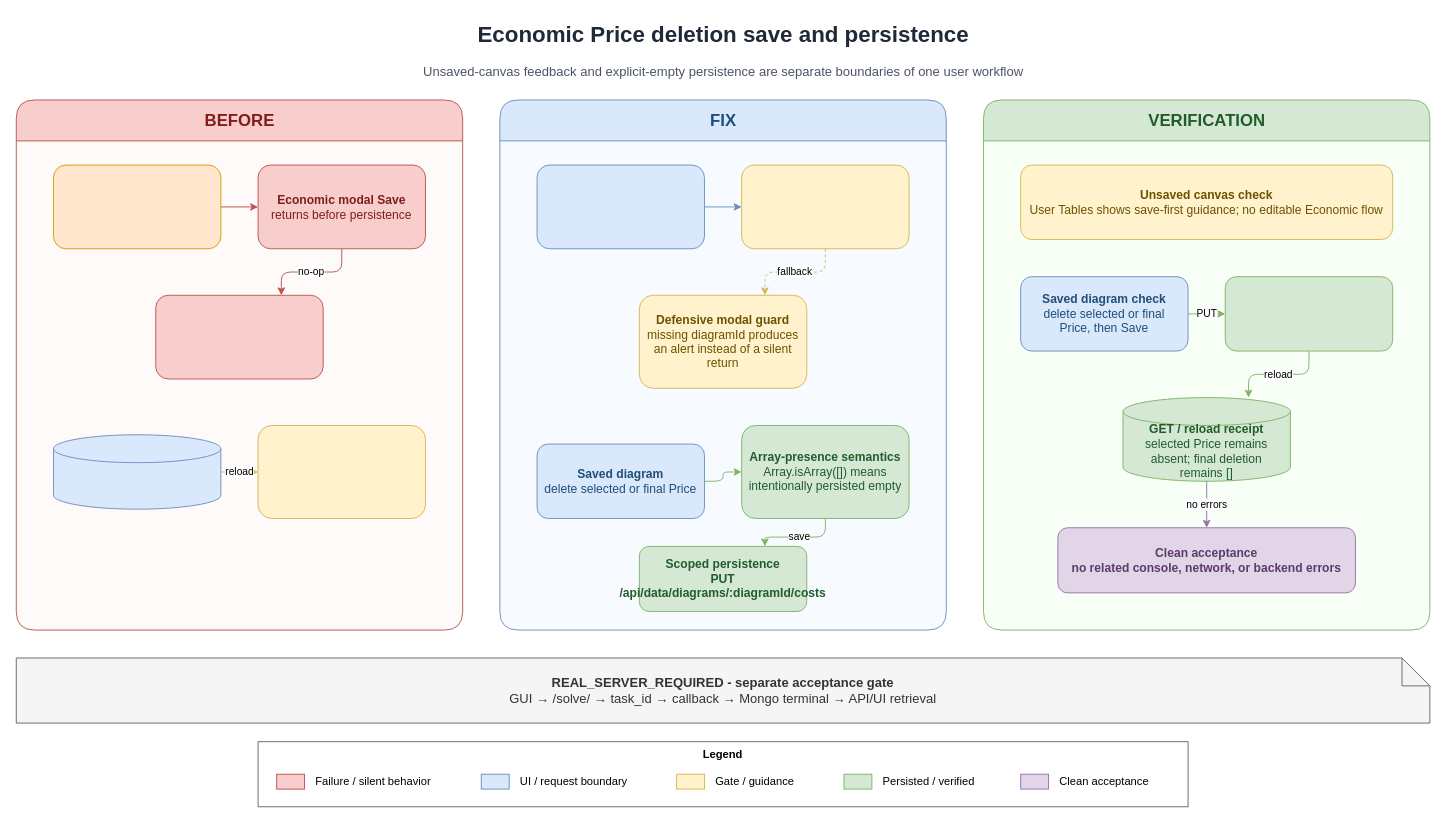
This 1446x823 diagram has some shape labels left out. The shapes that lost their labels are listed below. From the top down, each one's centre as x and y in pixels, then its label:
point (137, 206): Unsaved canvas /canvas/:domainId diagramId is absent
point (620, 206): Header save-first gate Economic entry disabled while diagramId is absent
point (825, 206): Visible guidance Save the diagram before editing Economic data
point (1308, 313): Network + UI receipt PUT 200 and visible success
point (239, 336): Silent outcome no request, no feedback, deletion not persisted
point (137, 471): Saved response prices = []
point (341, 471): Length-based initialization [] treated as missing defaults restored
